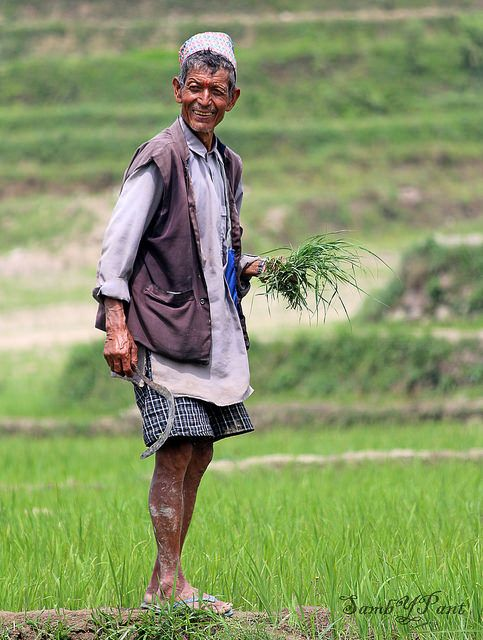human: (86, 25, 297, 627)
